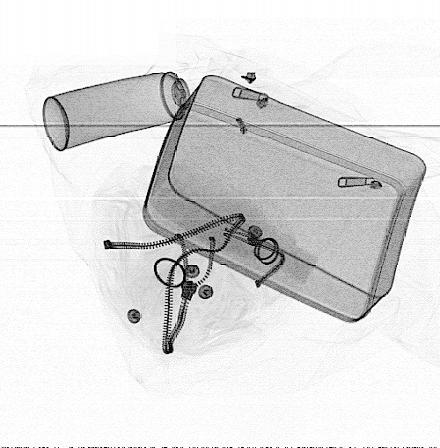Sprayer: (42, 65, 220, 151)
